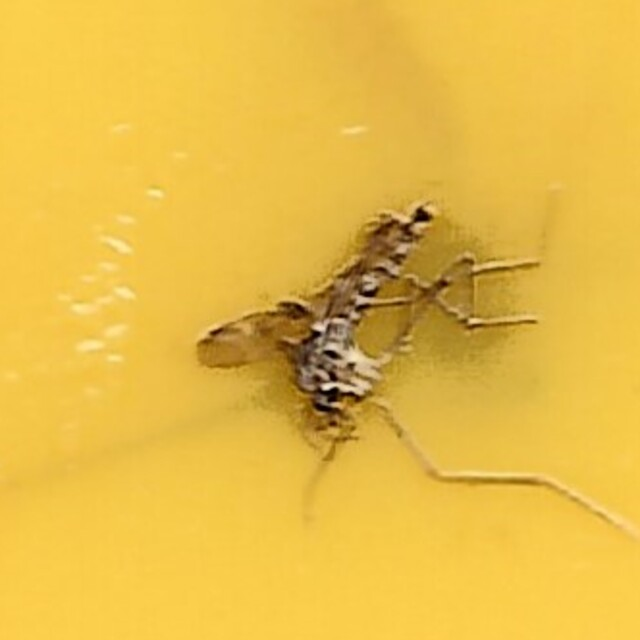Nematocera: (193, 190, 447, 450)
